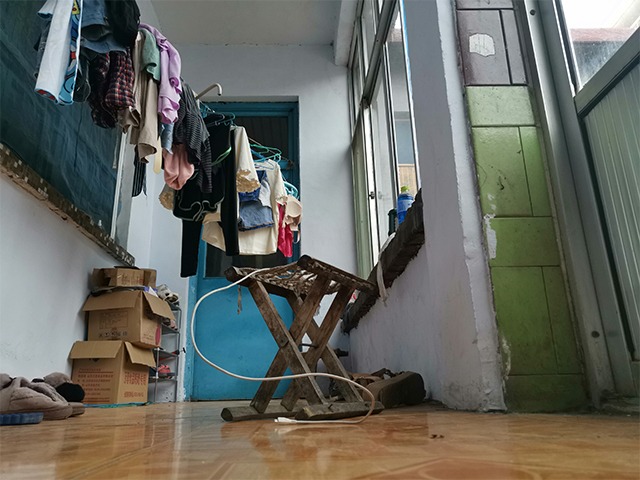slippers: (1, 369, 88, 427)
stool: (220, 254, 385, 423)
wire: (189, 266, 377, 424)
